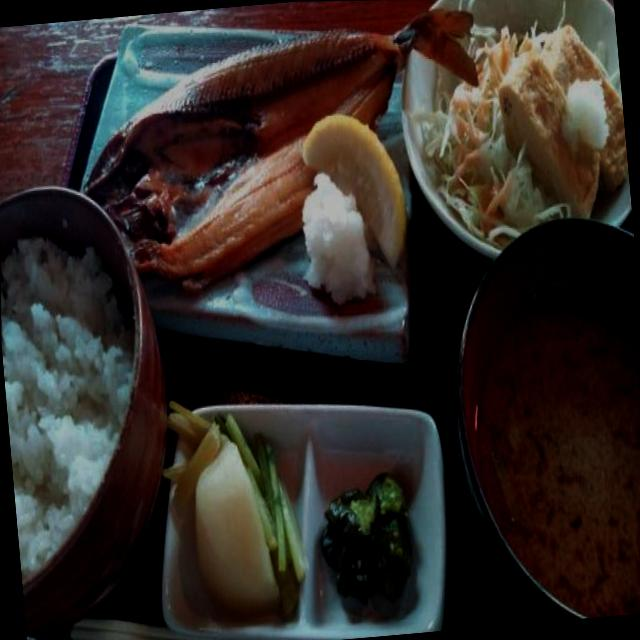Rice: (0, 211, 150, 592)
